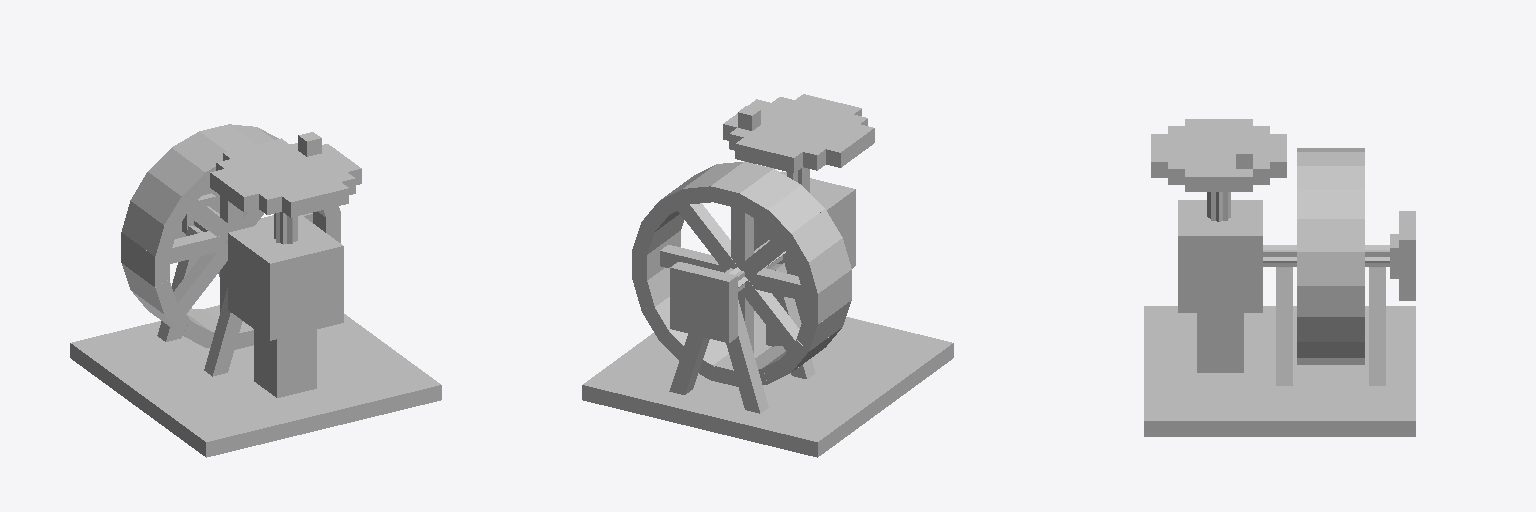
The model's file is handcranked_generator.obj.
3 views of the same model, side by side, from view 1: azimuth 30°, elevation 25°; view 2: azimuth 150°, elevation 25°; view 3: azimuth 270°, elevation 25° (orthographic).
Parts seen in each view (by area): view 1: base, fly_wheel, hand_wheel; view 2: fly_wheel, base, hand_wheel; view 3: base, fly_wheel, hand_wheel.
Part boxes in pixels (bbox=[...]): base: bbox=[70, 215, 441, 457]; fly_wheel: bbox=[121, 124, 340, 349]; hand_wheel: bbox=[210, 132, 361, 244]; fly_wheel: bbox=[632, 161, 851, 386]; base: bbox=[582, 171, 953, 457]; hand_wheel: bbox=[723, 94, 874, 192]; base: bbox=[1144, 200, 1415, 436]; fly_wheel: bbox=[1263, 148, 1415, 364]; hand_wheel: bbox=[1151, 119, 1286, 221].
Size of the model in its own units: 1 by 1 by 1.